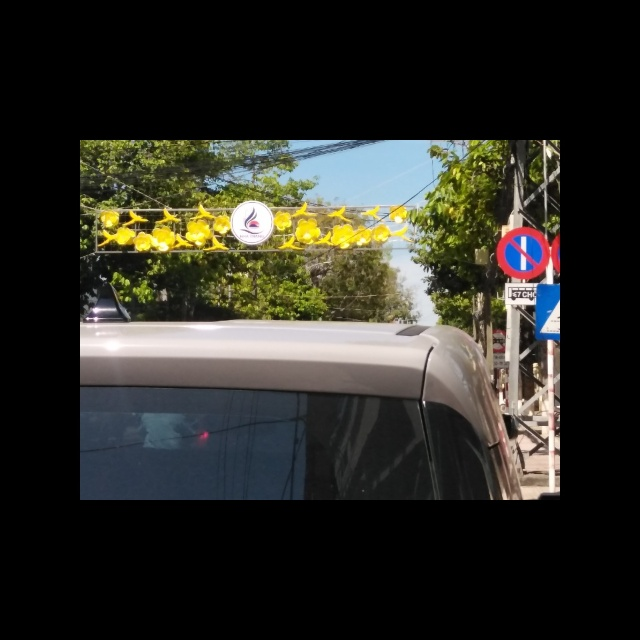Cấm đỗ xe ngày lẻ: (494, 227, 551, 282)
